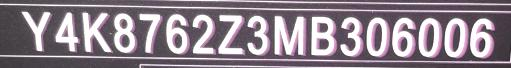letter: (271, 12, 308, 56), (19, 8, 53, 52), (80, 10, 114, 52), (308, 14, 338, 56), (468, 15, 496, 59), (441, 16, 470, 58), (137, 8, 163, 54), (163, 12, 191, 54), (217, 12, 245, 54), (338, 12, 364, 56), (416, 14, 442, 58), (53, 10, 80, 51), (112, 10, 138, 52), (391, 14, 417, 56), (364, 15, 390, 57), (191, 13, 217, 53), (246, 14, 271, 54)
